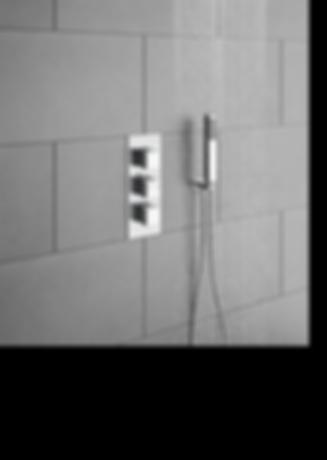Ducha: (0, 0, 308, 345)
